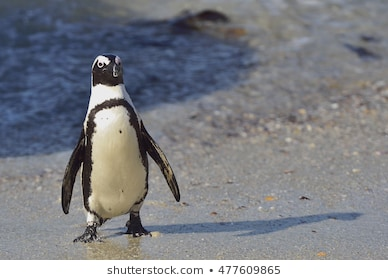penguin: (46, 44, 183, 250)
